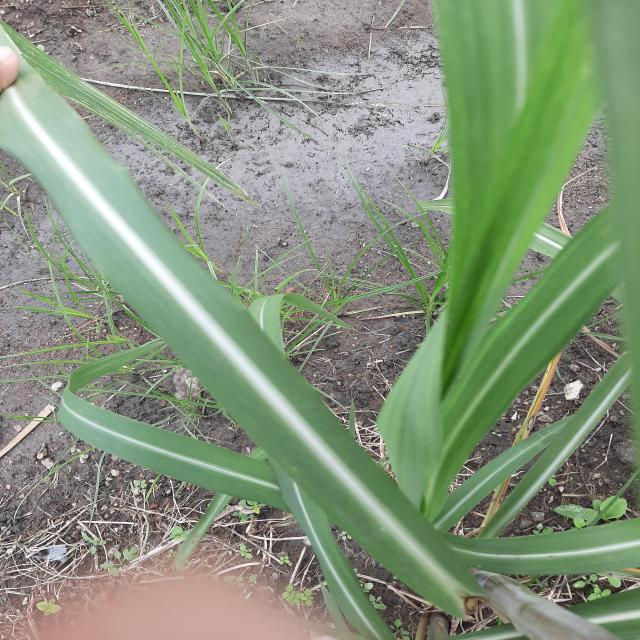Sugarcane: (1, 1, 638, 638)
